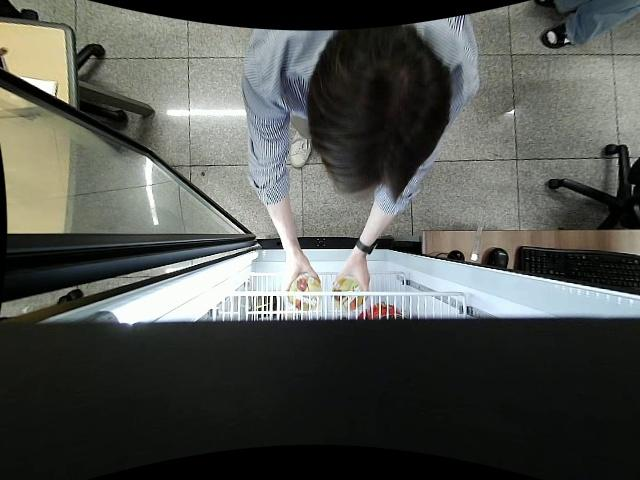00_hand: (281, 256, 320, 289), (335, 254, 370, 288)
04_chapagetti_S: (287, 274, 323, 313), (334, 280, 364, 310)
